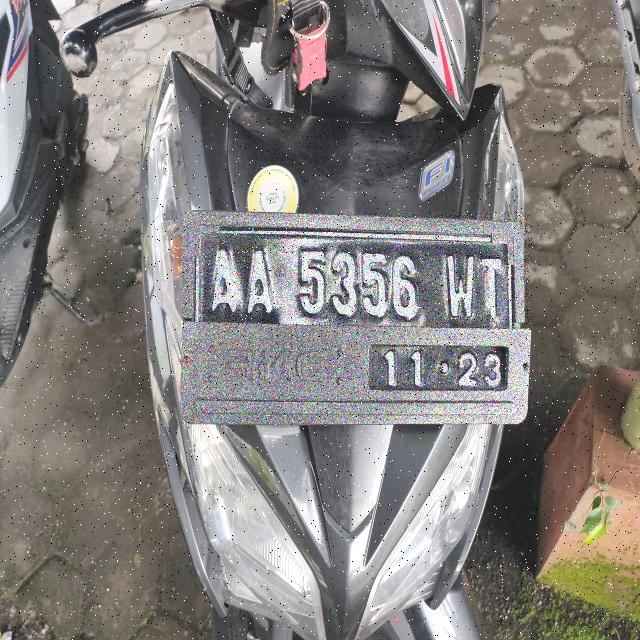plate: (181, 213, 529, 423)
